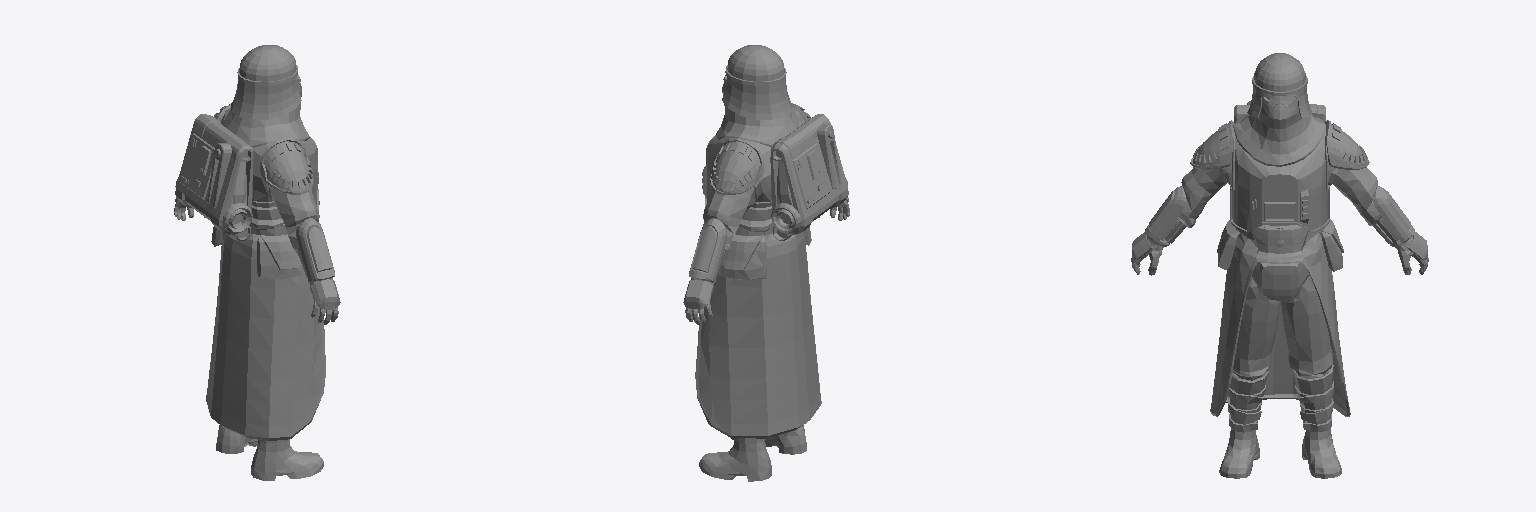
Rendered from Imp_trooperSnow.obj.
3 views of the same model, side by side, from view 1: azimuth 30°, elevation 25°; view 2: azimuth 150°, elevation 25°; view 3: azimuth 270°, elevation 25° (orthographic).
Visible parts, largest first — view 1: ex_LOD0exportPreppedShape1_0, ex_LOD0_skirtClothMeshShapeDeformed, ex_LOD0exportPreppedShape1_2, LOD0_R_legMeshShapeDeformed_0, LOD0_L_legMeshShapeDeformed_0, ex_LOD0exportPreppedShape1_1; view 2: ex_LOD0_skirtClothMeshShapeDeformed, ex_LOD0exportPreppedShape1_0, ex_LOD0exportPreppedShape1_2, LOD0_L_legMeshShapeDeformed_0, LOD0_R_legMeshShapeDeformed_0, ex_LOD0exportPreppedShape1_1; view 3: ex_LOD0exportPreppedShape1_0, ex_LOD0_skirtClothMeshShapeDeformed, LOD0_L_legMeshShapeDeformed_0, LOD0_R_legMeshShapeDeformed_0, ex_LOD0exportPreppedShape1_2, ex_LOD0exportPreppedShape1_1, ex_LOD0exportPreppedShape1_3, LOD0_R_legMeshShapeDeformed_1, LOD0_L_legMeshShapeDeformed_1.
Boxes of the visible parts, box(x1,y1,x2,y2) form: ex_LOD0exportPreppedShape1_0: box(175, 45, 340, 309); ex_LOD0_skirtClothMeshShapeDeformed: box(206, 233, 325, 440); ex_LOD0exportPreppedShape1_2: box(211, 117, 319, 282); LOD0_R_legMeshShapeDeformed_0: box(251, 440, 323, 480); LOD0_L_legMeshShapeDeformed_0: box(216, 425, 257, 453); ex_LOD0exportPreppedShape1_1: box(174, 200, 338, 324); ex_LOD0_skirtClothMeshShapeDeformed: box(695, 231, 821, 438); ex_LOD0exportPreppedShape1_0: box(683, 45, 848, 309); ex_LOD0exportPreppedShape1_2: box(703, 119, 811, 282); LOD0_L_legMeshShapeDeformed_0: box(699, 438, 771, 481); LOD0_R_legMeshShapeDeformed_0: box(765, 425, 806, 454); ex_LOD0exportPreppedShape1_1: box(685, 200, 849, 324); ex_LOD0exportPreppedShape1_0: box(1132, 53, 1427, 301); ex_LOD0_skirtClothMeshShapeDeformed: box(1210, 245, 1350, 416); LOD0_L_legMeshShapeDeformed_0: box(1280, 276, 1341, 478); LOD0_R_legMeshShapeDeformed_0: box(1219, 277, 1279, 478); ex_LOD0exportPreppedShape1_2: box(1157, 162, 1402, 271); ex_LOD0exportPreppedShape1_1: box(1131, 236, 1428, 275); ex_LOD0exportPreppedShape1_3: box(1236, 229, 1322, 263); LOD0_R_legMeshShapeDeformed_1: box(1228, 389, 1262, 431); LOD0_L_legMeshShapeDeformed_1: box(1299, 388, 1333, 431).
Bounding box in the file's own units: 13.88 × 45.85 × 30.15.